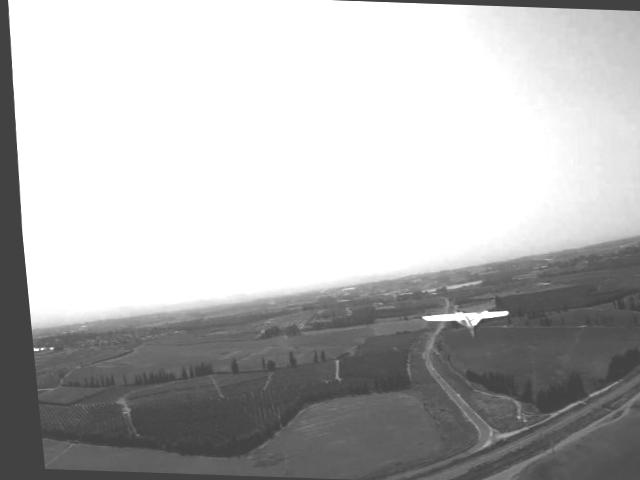hedef: (412, 296, 508, 343)
